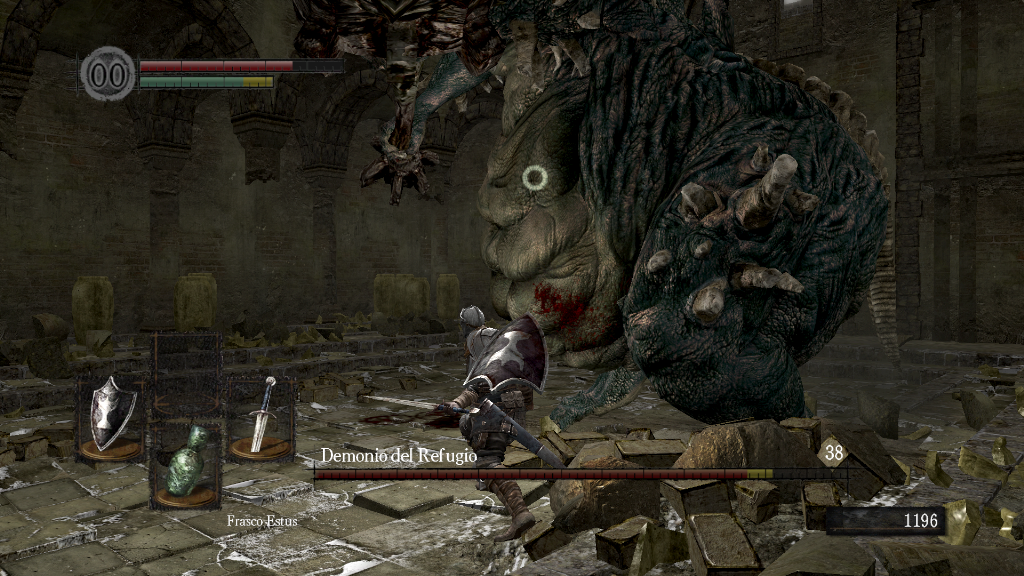asylumDemon: (295, 2, 896, 464)
bossHP: (314, 469, 847, 479)
health: (138, 58, 343, 71)
humanity: (80, 45, 136, 102)
player: (359, 301, 551, 542)
souls: (825, 506, 945, 536)
stamina: (138, 74, 274, 88)
